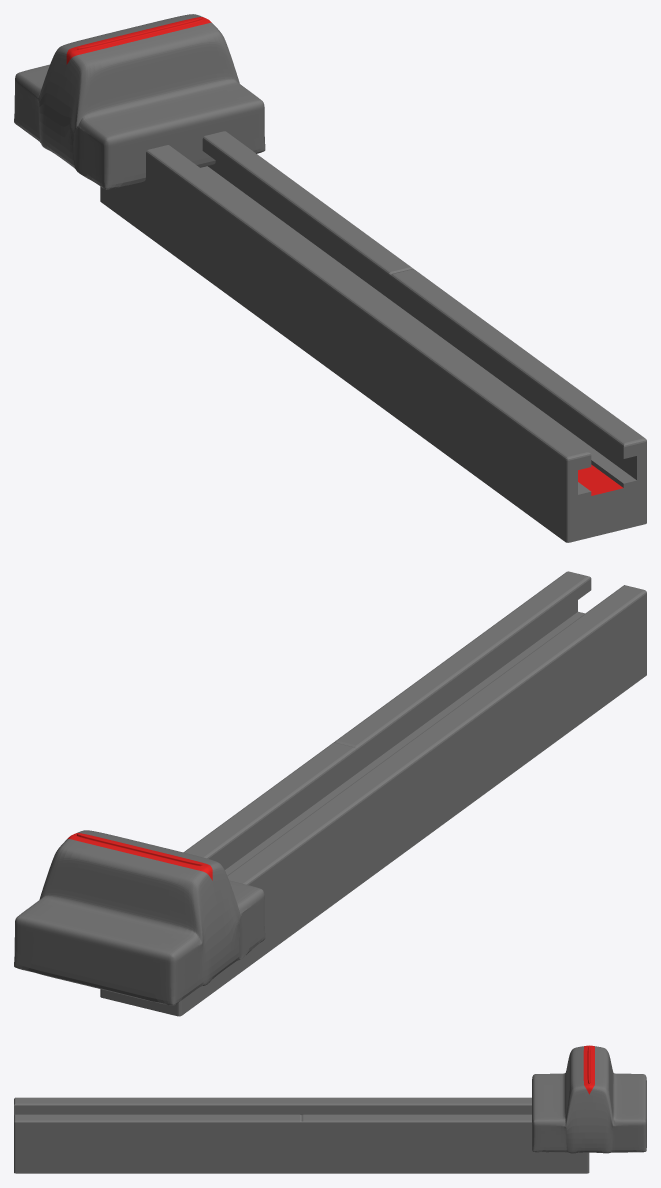
The model's file is SliderButtonRail.fbx.
The picture shows the model from 3 angles, top to bottom: view 1: azimuth 30°, elevation 25°; view 2: azimuth 150°, elevation 25°; view 3: azimuth 270°, elevation 25°; orthographic projection. The views are drawn at different scales.
Parts seen in each view (by area): view 1: SliderRail, SliderButton; view 2: SliderRail, SliderButton; view 3: SliderRail, SliderButton.
Boxes of the visible parts, <box> form: SliderRail: <box>100,131,646,542</box>; SliderButton: <box>14,14,265,189</box>; SliderRail: <box>100,571,646,1016</box>; SliderButton: <box>14,830,265,1005</box>; SliderRail: <box>14,1097,589,1173</box>; SliderButton: <box>532,1045,646,1153</box>.
Size of the model in its own units: 11 by 2.06 by 1.87.
